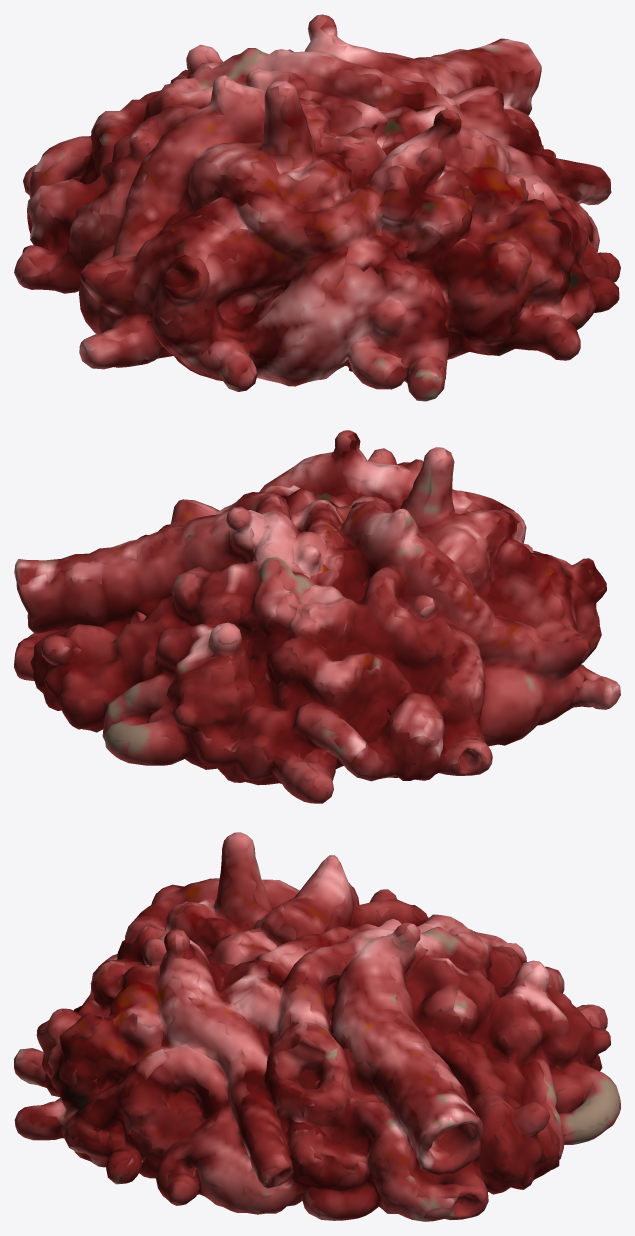
Rendered from SARGN0.obj.
3 views of the same model, one above another, from view 1: azimuth 30°, elevation 25°; view 2: azimuth 150°, elevation 25°; view 3: azimuth 270°, elevation 25° (orthographic). The views are drawn at different scales.
Bounding box in the file's own units: 0.9989 × 0.4378 × 1.
Materials: 1 (1 with a texture image).
